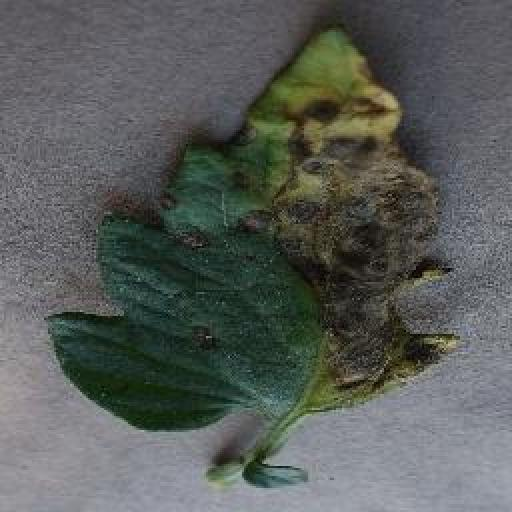Early Blight: (50, 28, 468, 433)
